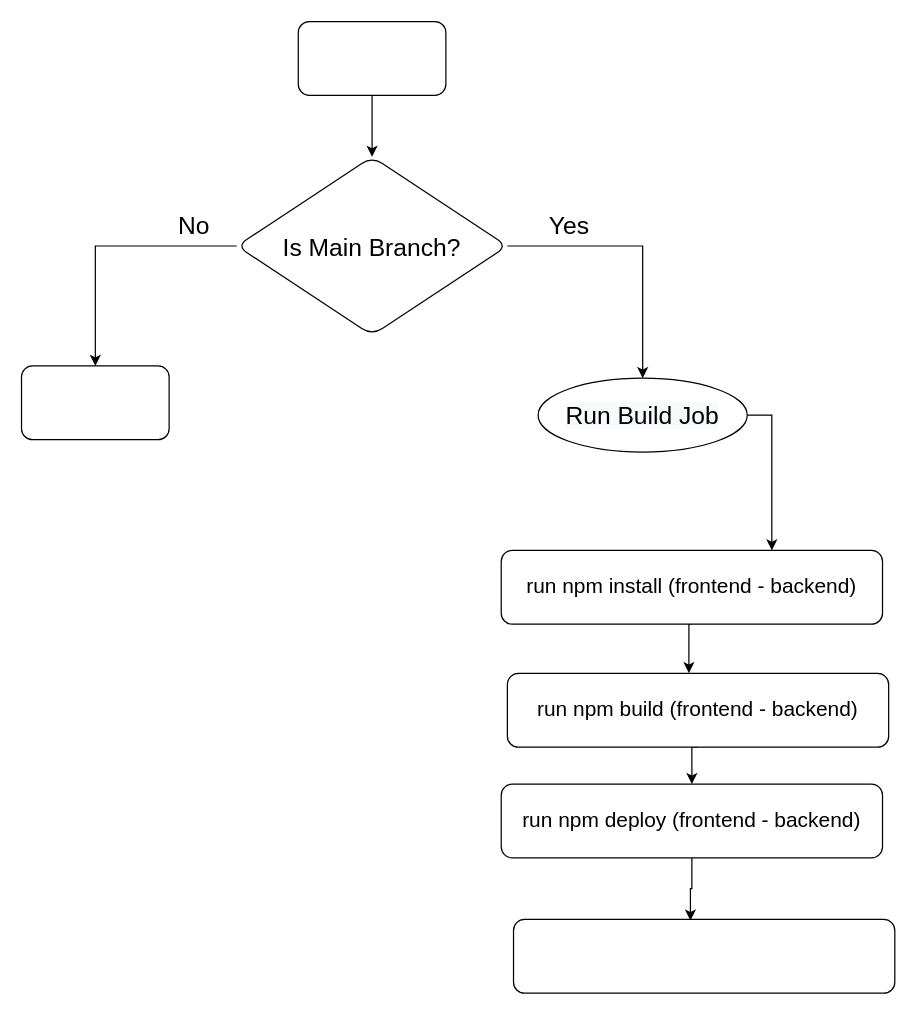
Image size: 916x1015. Some labels were removed from this diagram. The centre of each missing label's shape, as x and y in pixels:
Do Nothing: (94,402)
init orbs: (371,57)
set elastic beanstalk environments: (703,955)
